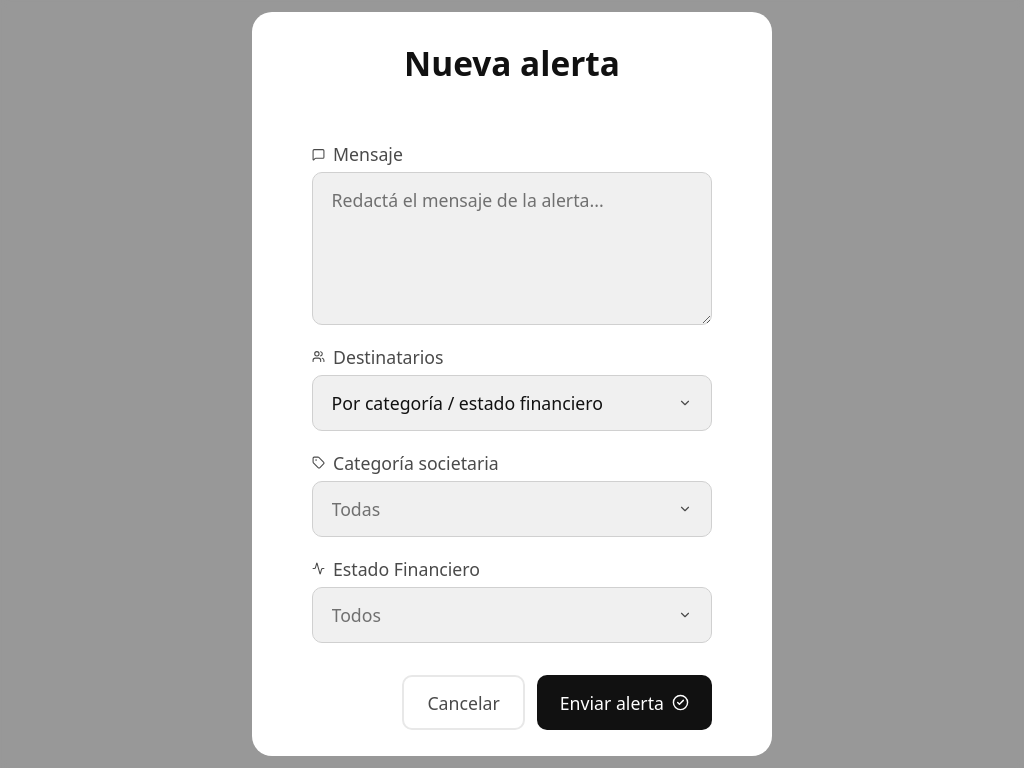
CreateAlertaForm › modo "Socios específicos" › agrega un socio encontrado a la lista y lo muestra como chip
Select "Socios específicos" in the dropdown labelled "Destinatarios" at {"x": 378, "y": 356}, box x1=312 y1=344 x2=444 y2=368
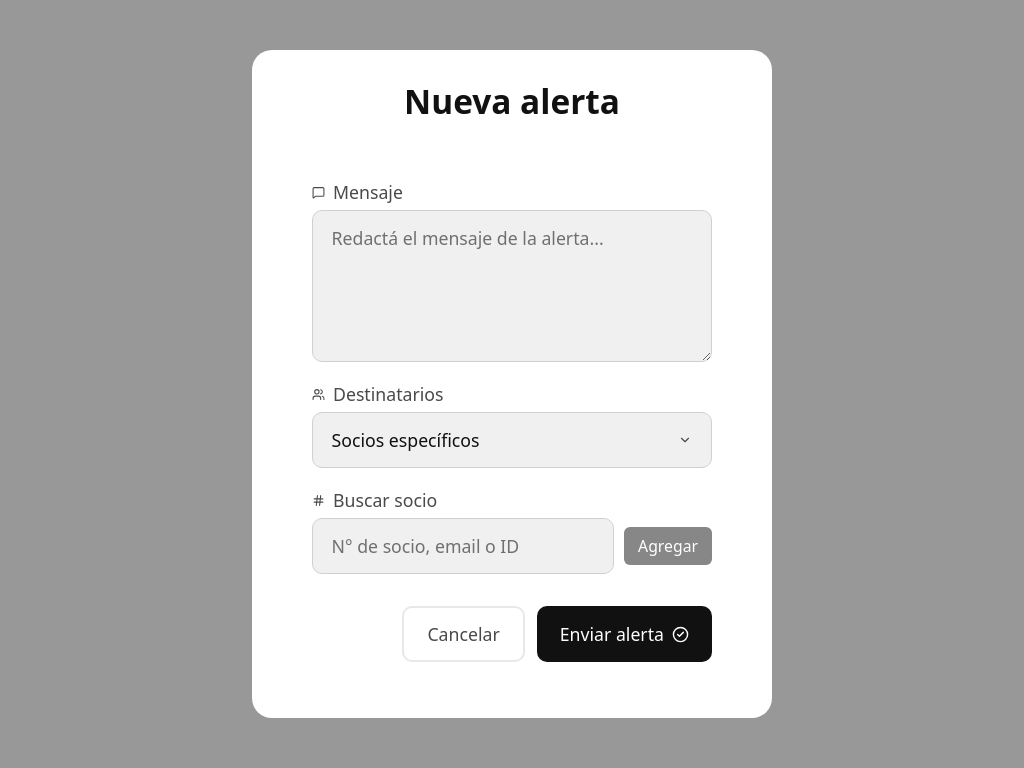
Type "1000" into the field with placeholder "N° de socio, email o ID" at {"x": 463, "y": 546}, box x1=312 y1=518 x2=614 y2=574
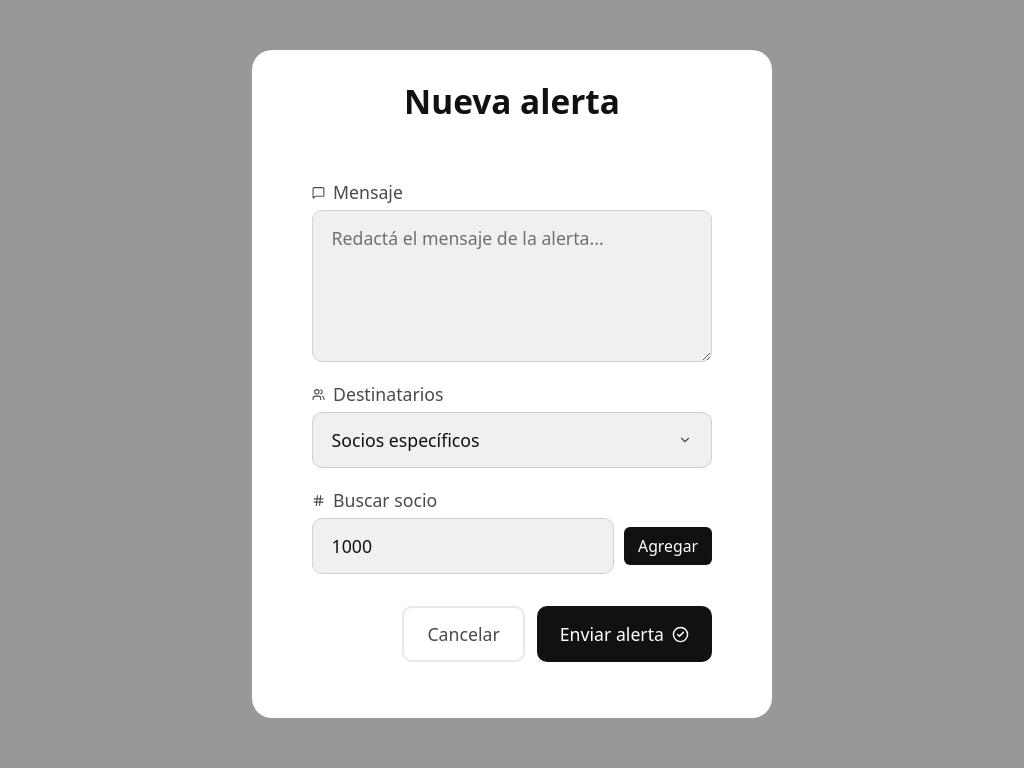
Click the button "Agregar" at {"x": 668, "y": 546}, box x1=624 y1=527 x2=712 y2=565
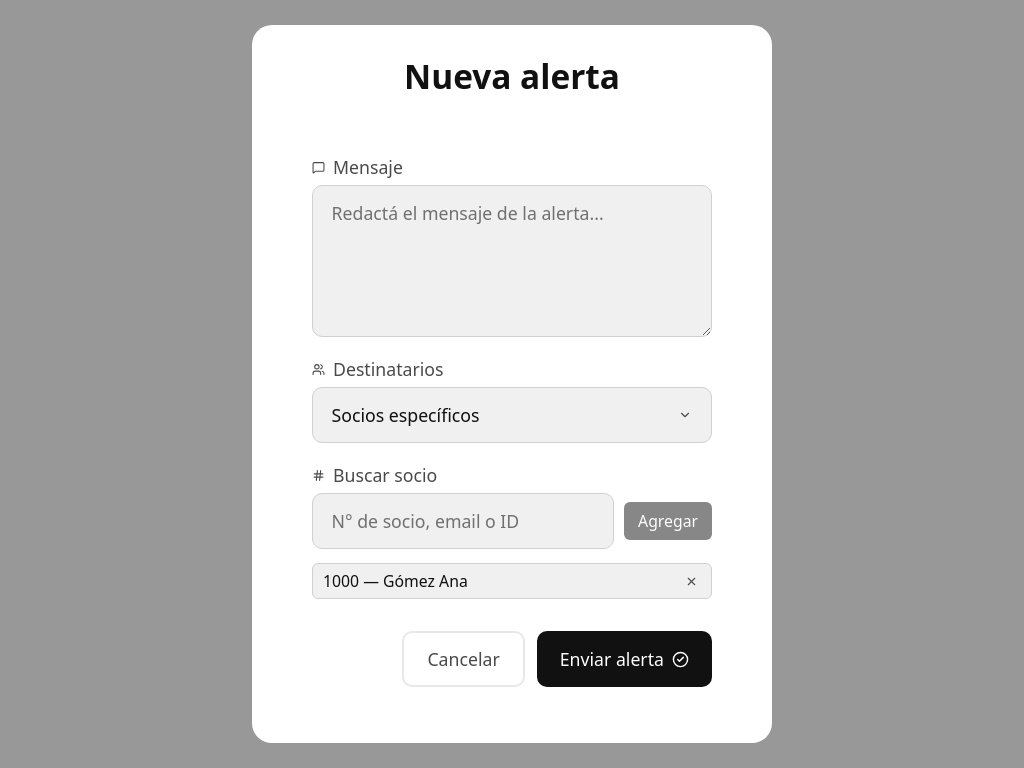
Expected: the text "1000 — Gómez Ana" is shown, x1=323 y1=570 x2=468 y2=592
